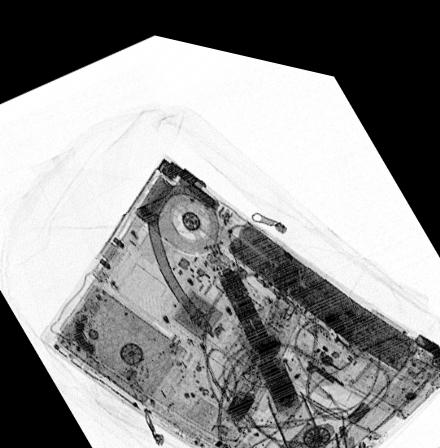Baton: (199, 228, 304, 405)
